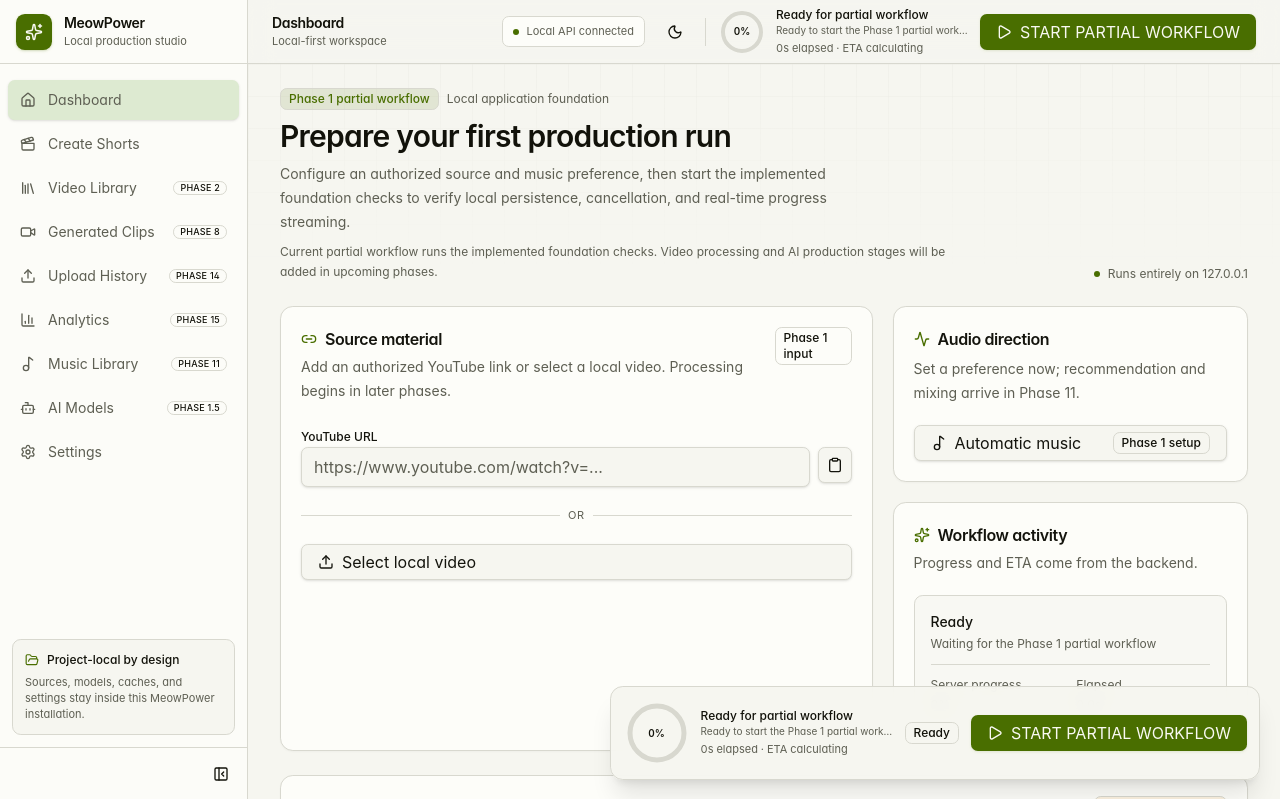
Test: MeowPower Phase 1 interface › keeps the prior folder visible when native selection is cancelled
Later steps or results of the test are not shown.
What coordinates should you click on to do the following:
click the button "Automatic music Phase 1 setup"
I would click on:
 (1070, 443)
Its box is top-left (914, 425), bottom-right (1227, 461).
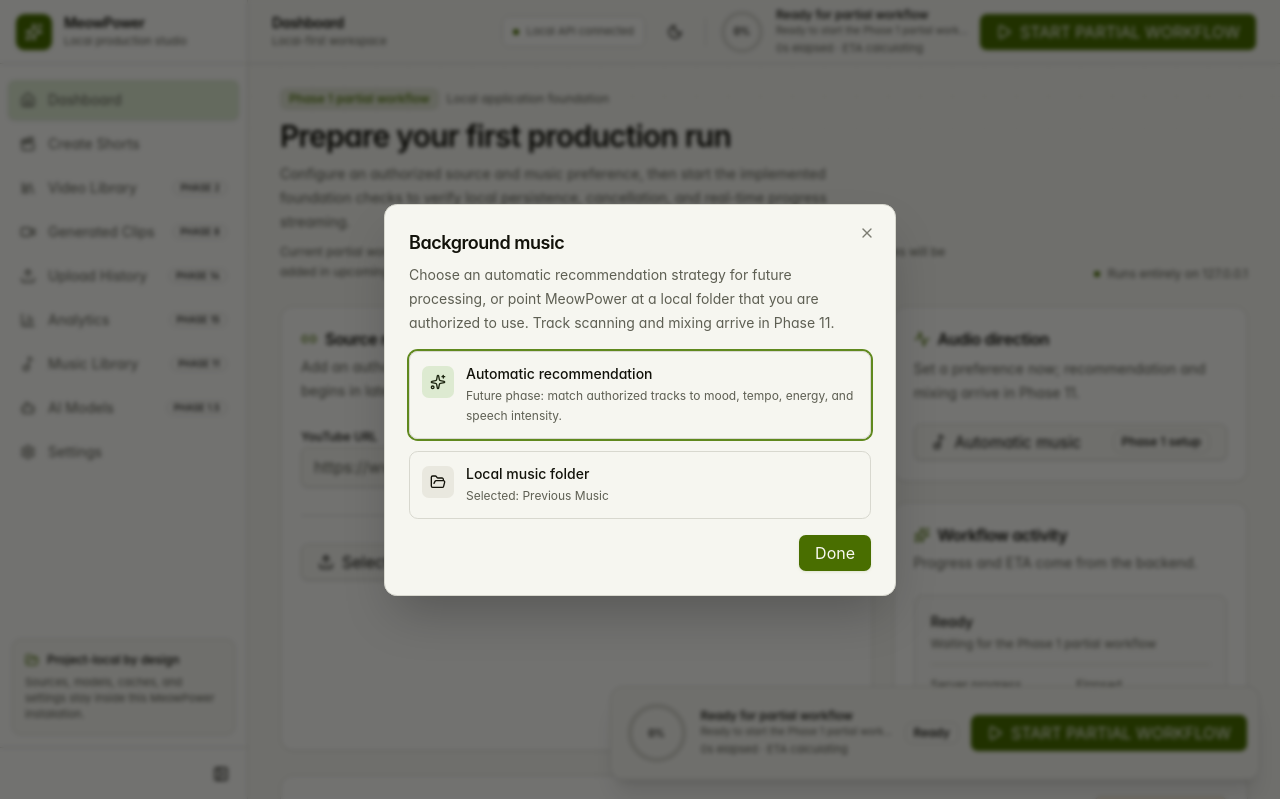
What coordinates should you click on to do the following:
click the button "Local music folder Selected: Previous Music"
I would click on:
 (438, 482)
Its box is top-left (409, 451), bottom-right (871, 519).
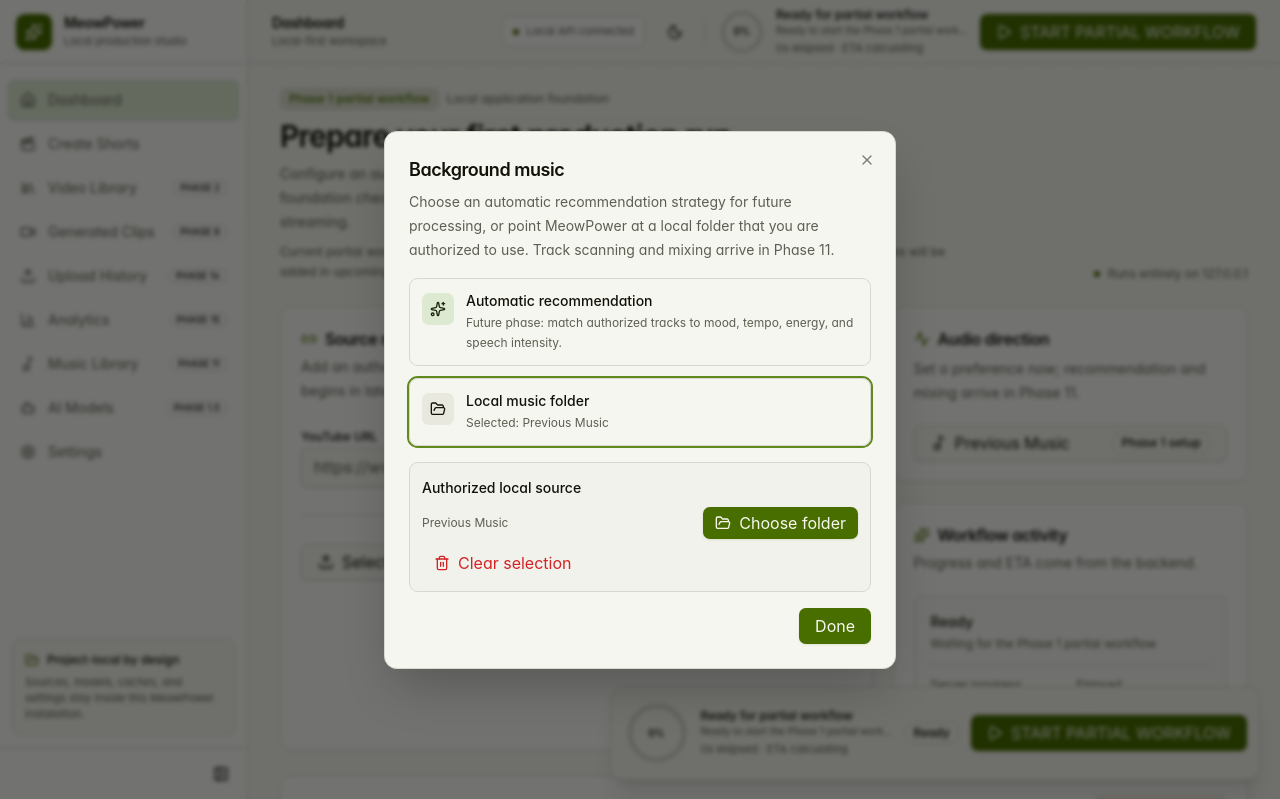
Expected: the text "Previous Music" below "Audio direction" is shown, top-left (954, 433), bottom-right (1070, 453)
